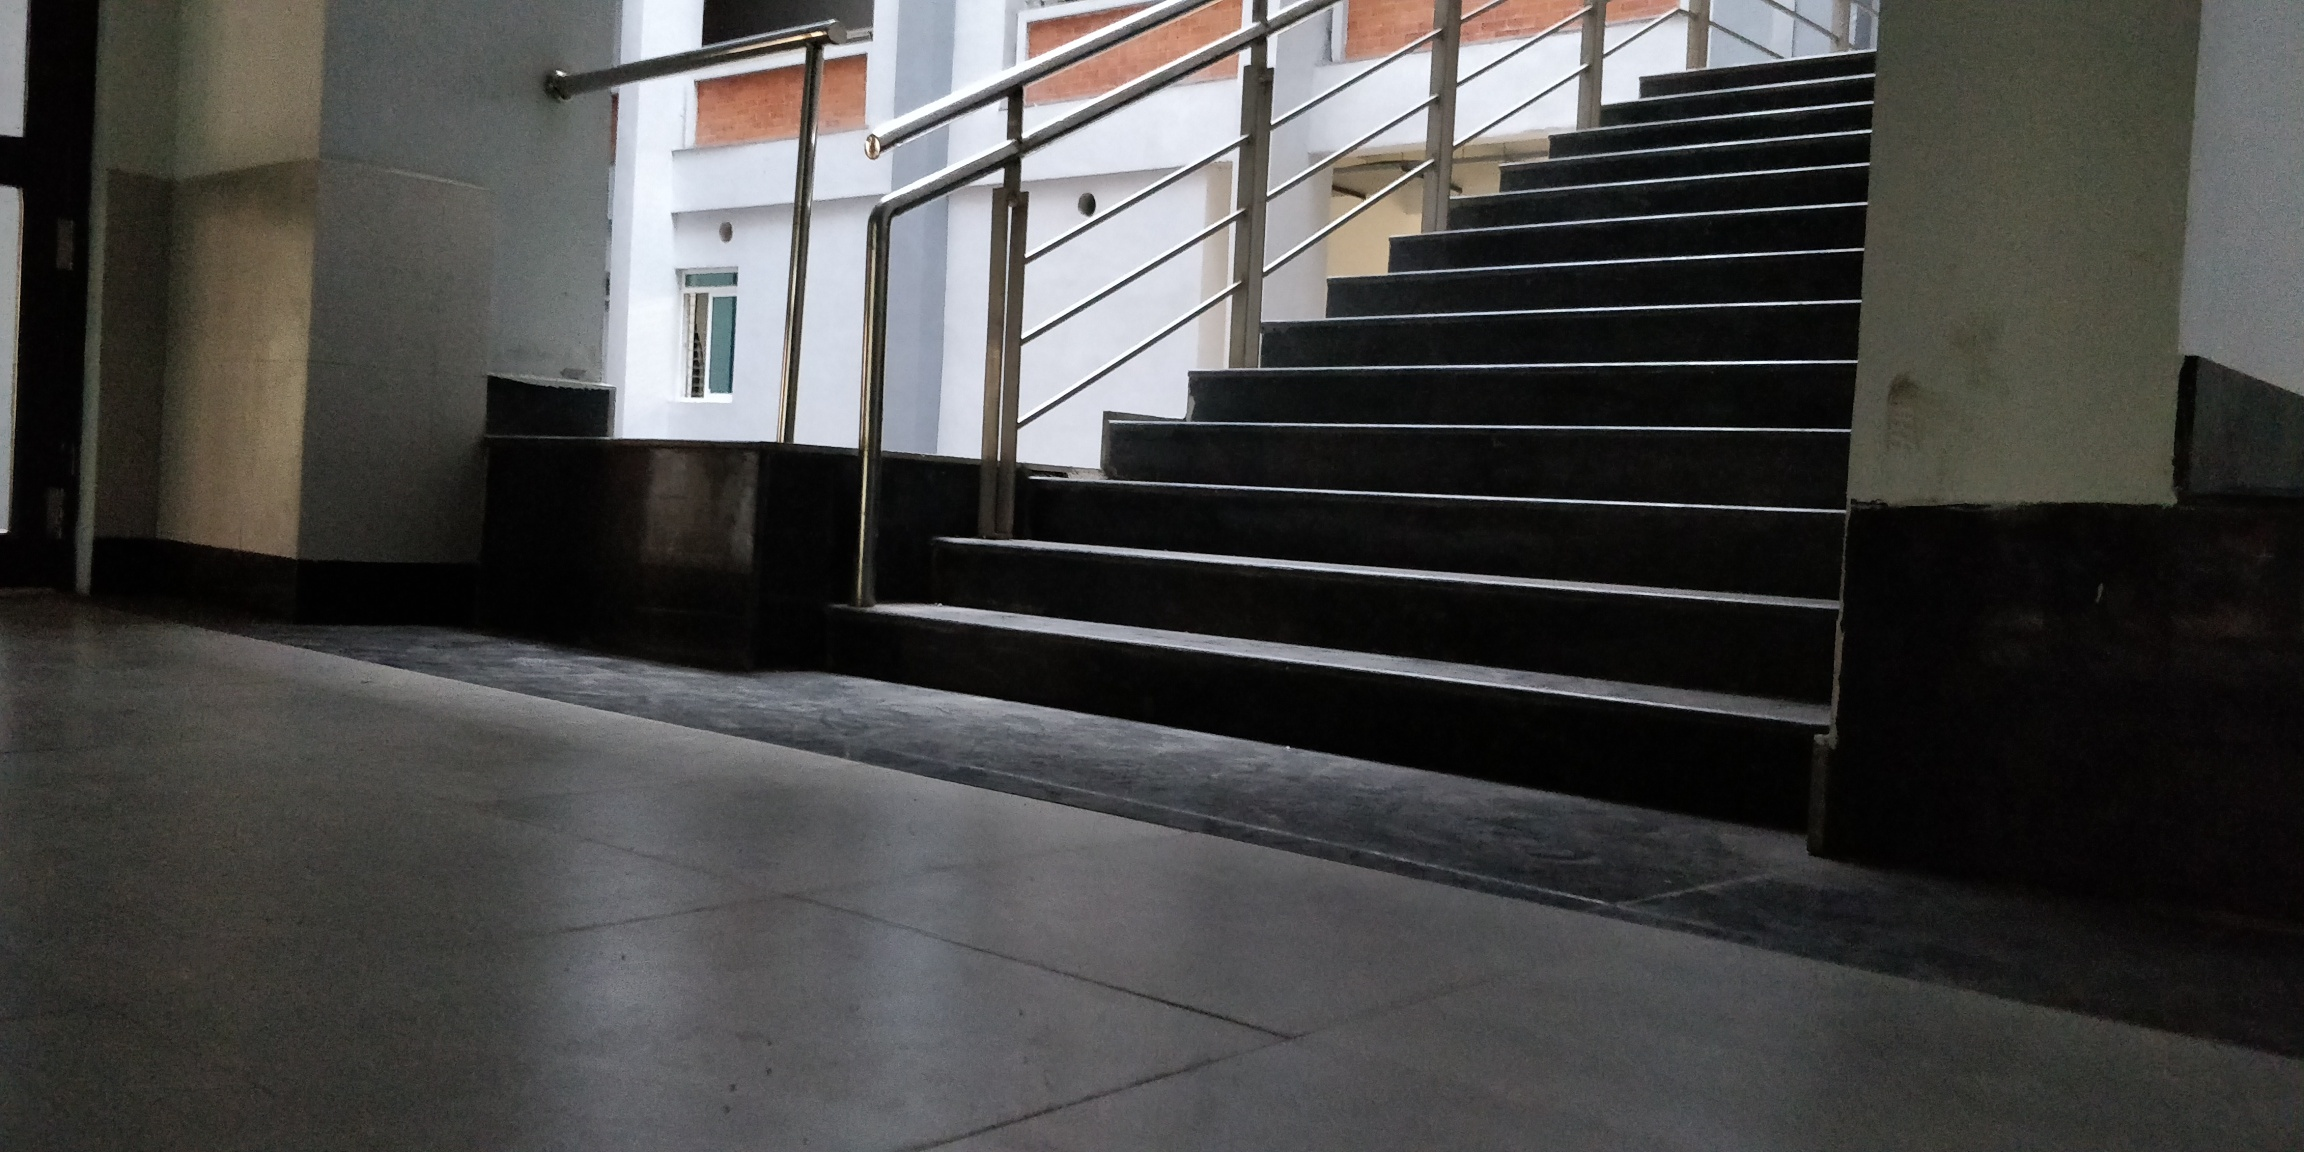stairs_up: (835, 40, 1884, 821)
